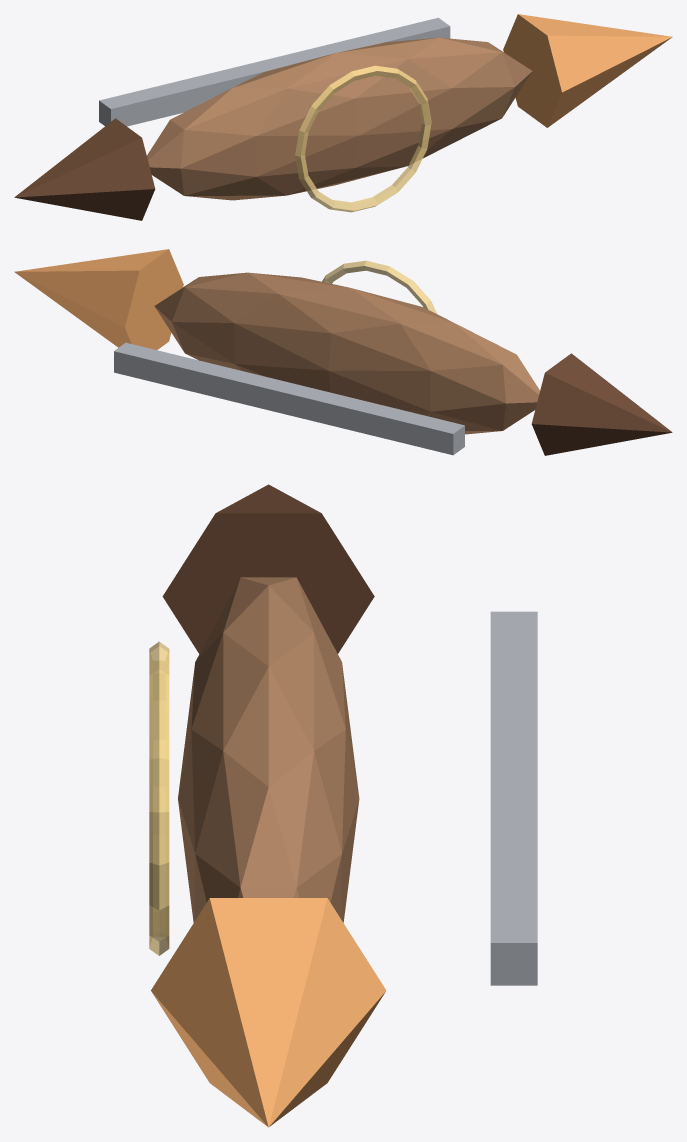
File: 05_skyship_hull.glb
The picture shows the model from 3 angles, top to bottom: view 1: azimuth 30°, elevation 25°; view 2: azimuth 150°, elevation 25°; view 3: azimuth 270°, elevation 25°; orthographic projection. The views are drawn at different scales.
Visible parts, largest first — view 1: hull_low_poly, bow_upgrade, stern_fin, keel_plate, size_class_ring; view 2: hull_low_poly, keel_plate, bow_upgrade, stern_fin, size_class_ring; view 3: hull_low_poly, bow_upgrade, keel_plate, stern_fin, size_class_ring.
Boxes of the visible parts, bbox=[...] form: hull_low_poly: bbox=[147, 37, 532, 200]; bow_upgrade: bbox=[503, 14, 672, 127]; stern_fin: bbox=[14, 118, 155, 220]; keel_plate: bbox=[99, 17, 450, 126]; size_class_ring: bbox=[295, 65, 431, 212]; hull_low_poly: bbox=[154, 272, 539, 434]; keel_plate: bbox=[114, 342, 464, 455]; bow_upgrade: bbox=[14, 249, 183, 349]; stern_fin: bbox=[531, 353, 672, 455]; size_class_ring: bbox=[322, 260, 436, 313]; hull_low_poly: bbox=[178, 577, 359, 922]; bow_upgrade: bbox=[151, 898, 386, 1127]; keel_plate: bbox=[490, 611, 537, 985]; stern_fin: bbox=[162, 484, 374, 653]; size_class_ring: bbox=[149, 641, 169, 955].
Size of the model in its own units: 1.86 by 0.3801 by 0.4747.
